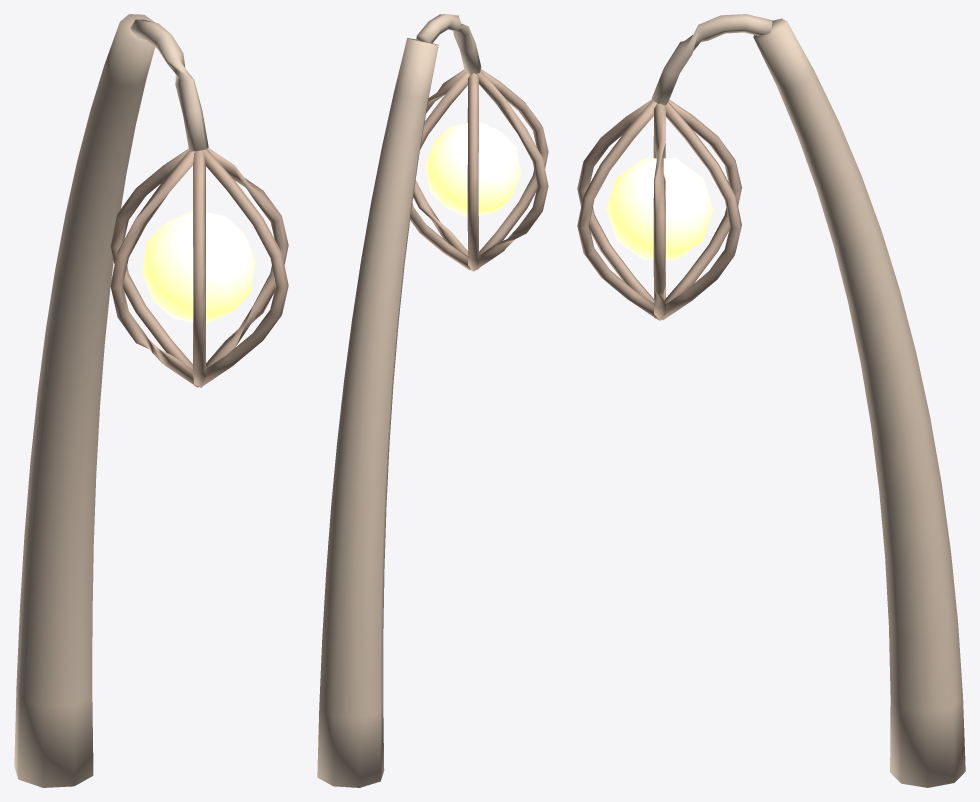
Rendered from lanterne_semeur.glb.
3 renders of one model, left to right at view 1: azimuth 30°, elevation 25°; view 2: azimuth 150°, elevation 25°; view 3: azimuth 270°, elevation 25°, orthographic. The views are drawn at different scales.
Parts seen in each view (by area): view 1: pied.002, lumiere.001, cage.020, cage.018, cage.019, crochet, cage.017, cage.015; view 2: pied.002, lumiere.001, cage.018, cage.017, cage.019, cage.016, crochet, cage.015; view 3: pied.002, lumiere.001, cage.016, cage.020, crochet, cage.015, cage.017, cage.019.
Part boxes in pixels (x1,y1,x2,y2): pied.002: (14,14,155,787); lumiere.001: (142,210,255,323); cage.020: (199,149,288,387); cage.018: (110,151,198,387); cage.019: (193,150,205,387); crochet: (130,19,208,151); cage.017: (110,148,192,369); cage.015: (206,148,288,368); pied.002: (317,38,438,787); lumiere.001: (425,121,521,217); cage.018: (474,70,548,270); cage.017: (467,73,478,271); cage.019: (477,69,548,269); cage.016: (410,71,470,270); crochet: (416,14,481,74); cage.015: (413,69,467,255); pied.002: (753,18,965,787); lumiere.001: (606,158,713,259); cage.016: (661,102,741,320); cage.020: (577,100,658,319); crochet: (651,14,772,104); cage.015: (653,103,665,320); cage.017: (664,99,741,303); cage.019: (577,99,655,318).
Bounding box in the file's own units: 0.5976 × 2.65 × 1.23.
